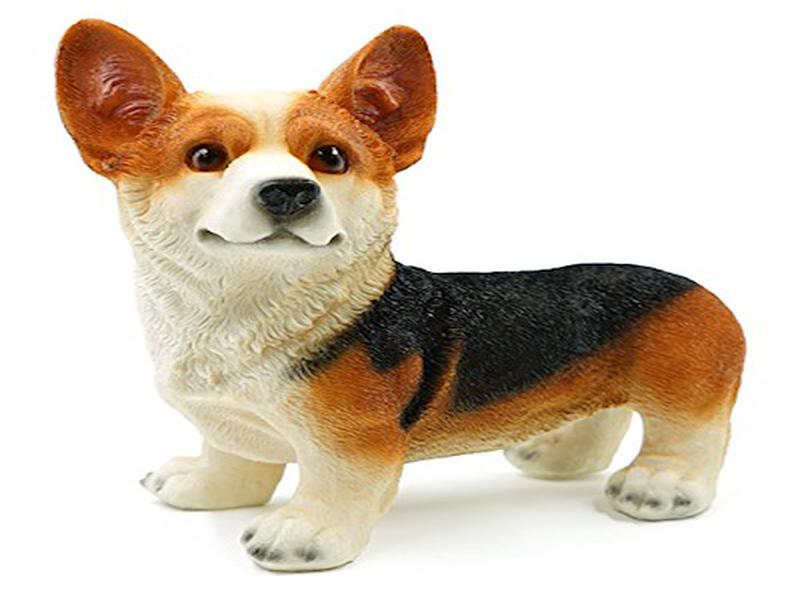corgi: (49, 18, 445, 273)
